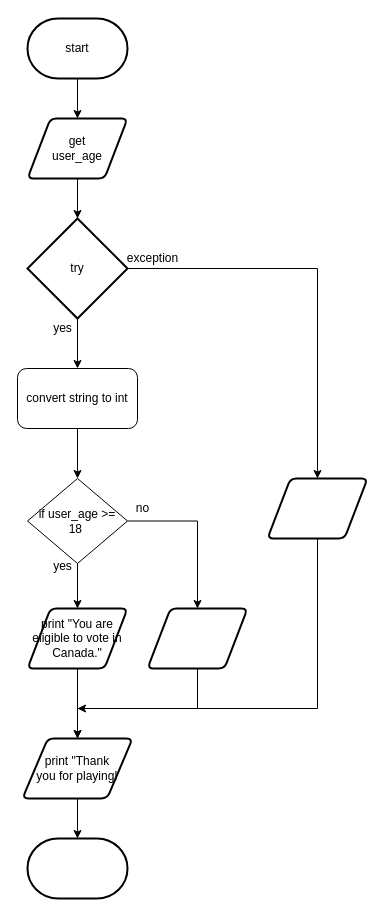
Some shapes in this 386 by 916 pixel diagram are drawn without their labels. The centre of each missing label's shape, as x and y in pixels:
print "Invalid integer.": point 317,508
print "You are not eligible to vote in Canada.": point 197,638
stop: point 77,868
